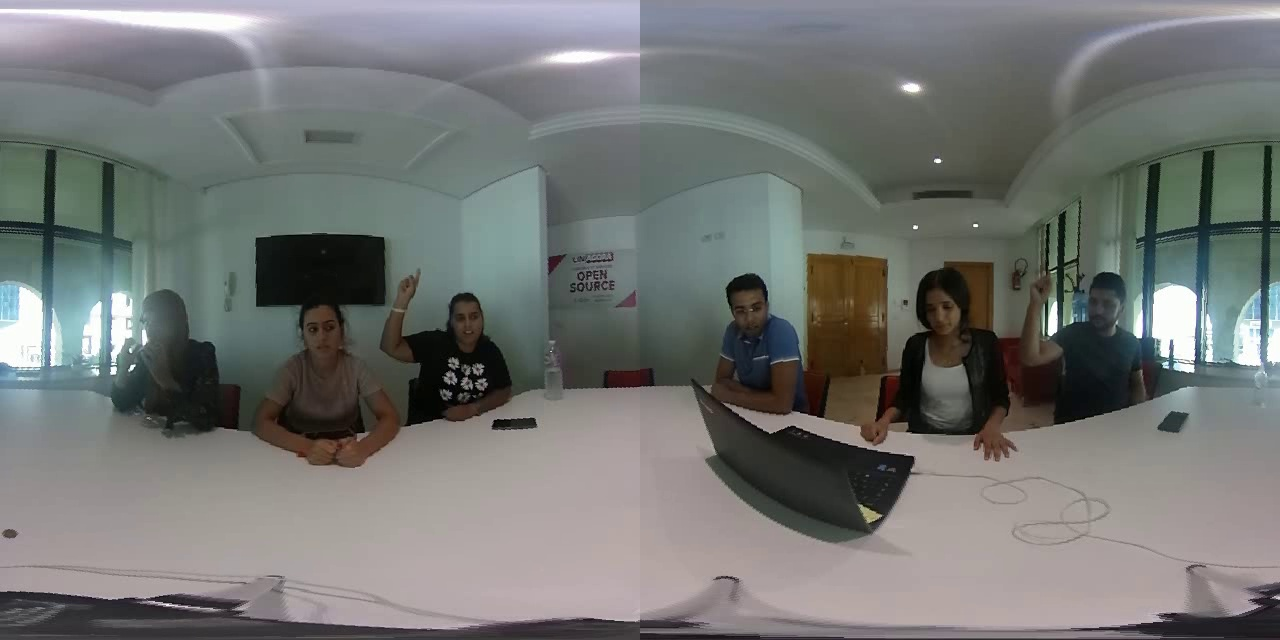person: (859, 265, 1017, 444), (253, 289, 396, 477), (377, 254, 529, 428), (1009, 263, 1159, 412), (102, 289, 242, 435), (693, 261, 807, 412)
speaking: (376, 261, 430, 362), (1016, 267, 1066, 369)
